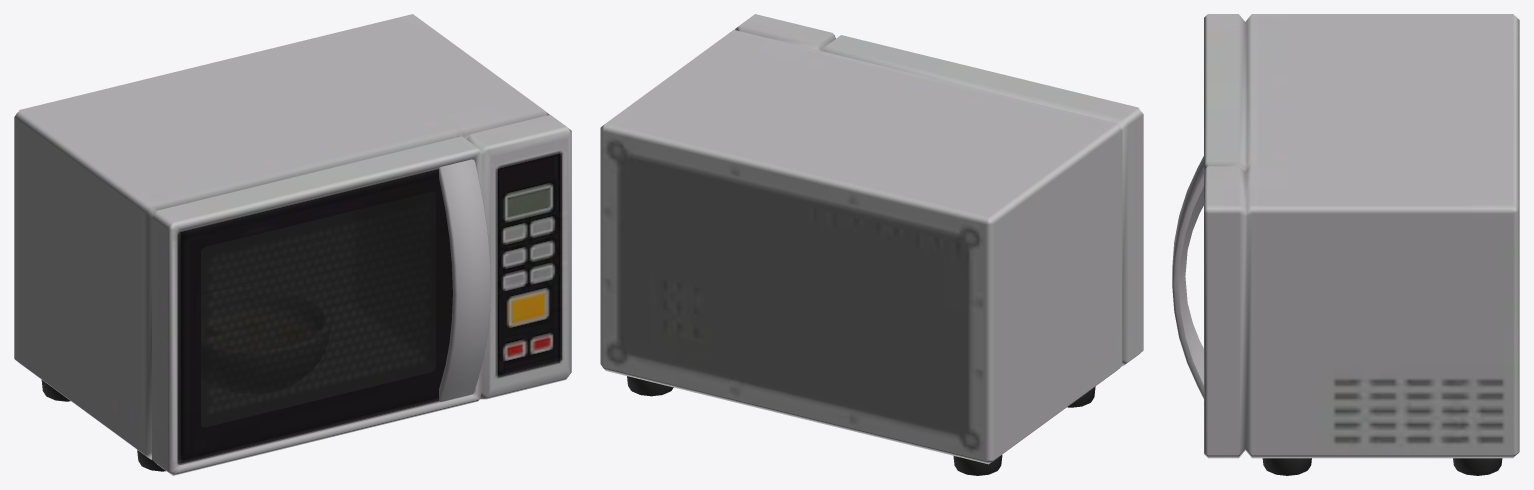
3 renders of one model, left to right at view 1: azimuth 30°, elevation 25°; view 2: azimuth 150°, elevation 25°; view 3: azimuth 270°, elevation 25°, orthographic. The views are drawn at different scales.
Bounding box in the file's own units: 7.82 × 5.11 × 5.85.
2 materials, 2 textured.
